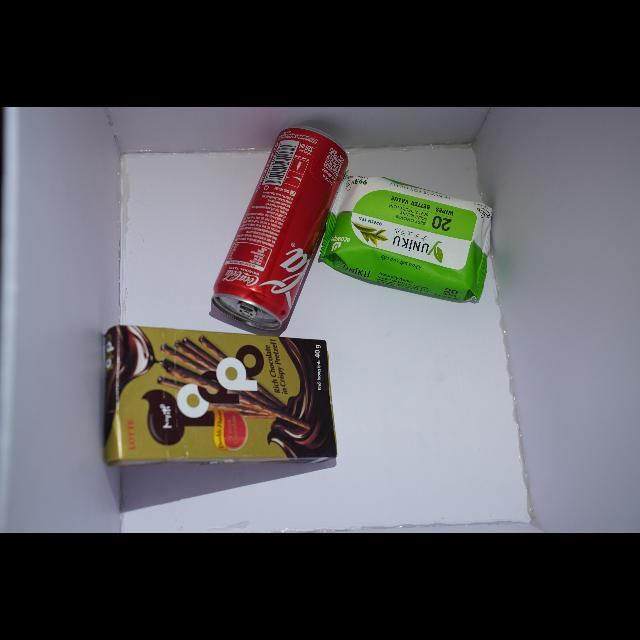banh_toppo_socola: (105, 325, 337, 466)
coca_cola: (212, 128, 348, 333)
khan_giay: (319, 173, 492, 303)
